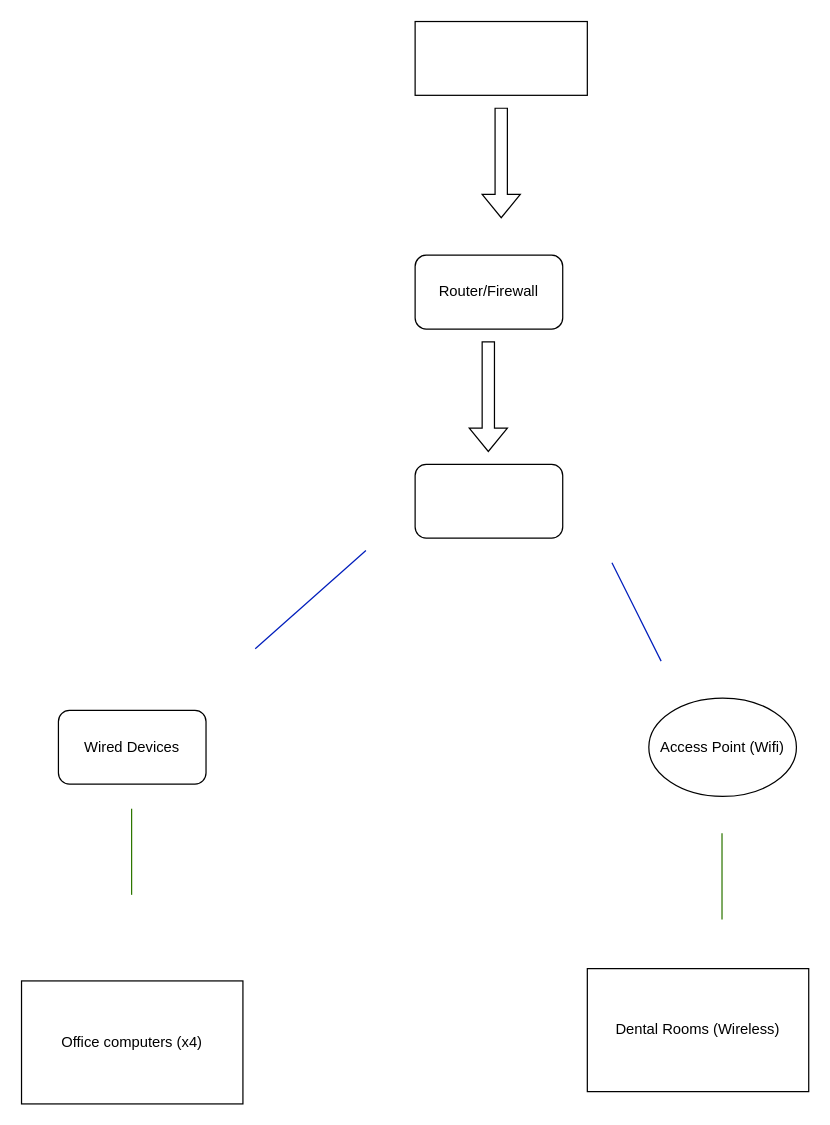
This 830x1125 diagram has some shape labels left out. The shapes that lost their labels are listed below. From the top down, each one's centre as x and y in pixels, then its label:
the point at 500,57: Spectrum Fiber
the point at 488,500: Switch
